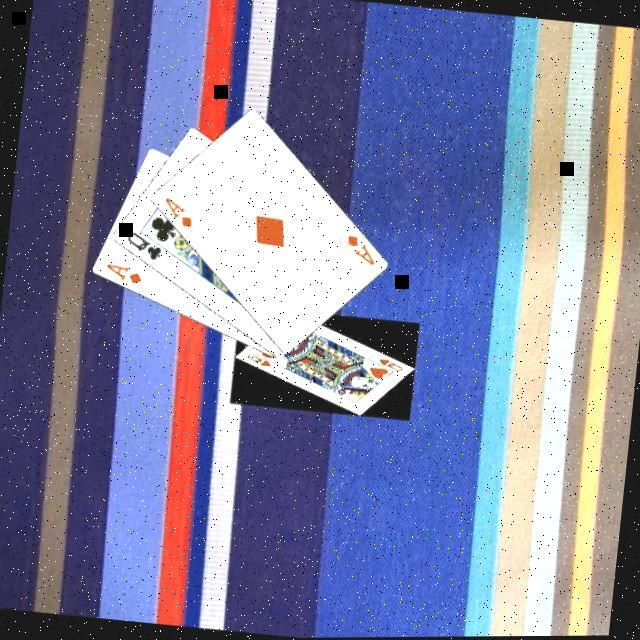AD: (159, 193, 198, 232), (342, 232, 381, 270), (101, 260, 147, 288)
QC: (121, 229, 167, 265)
